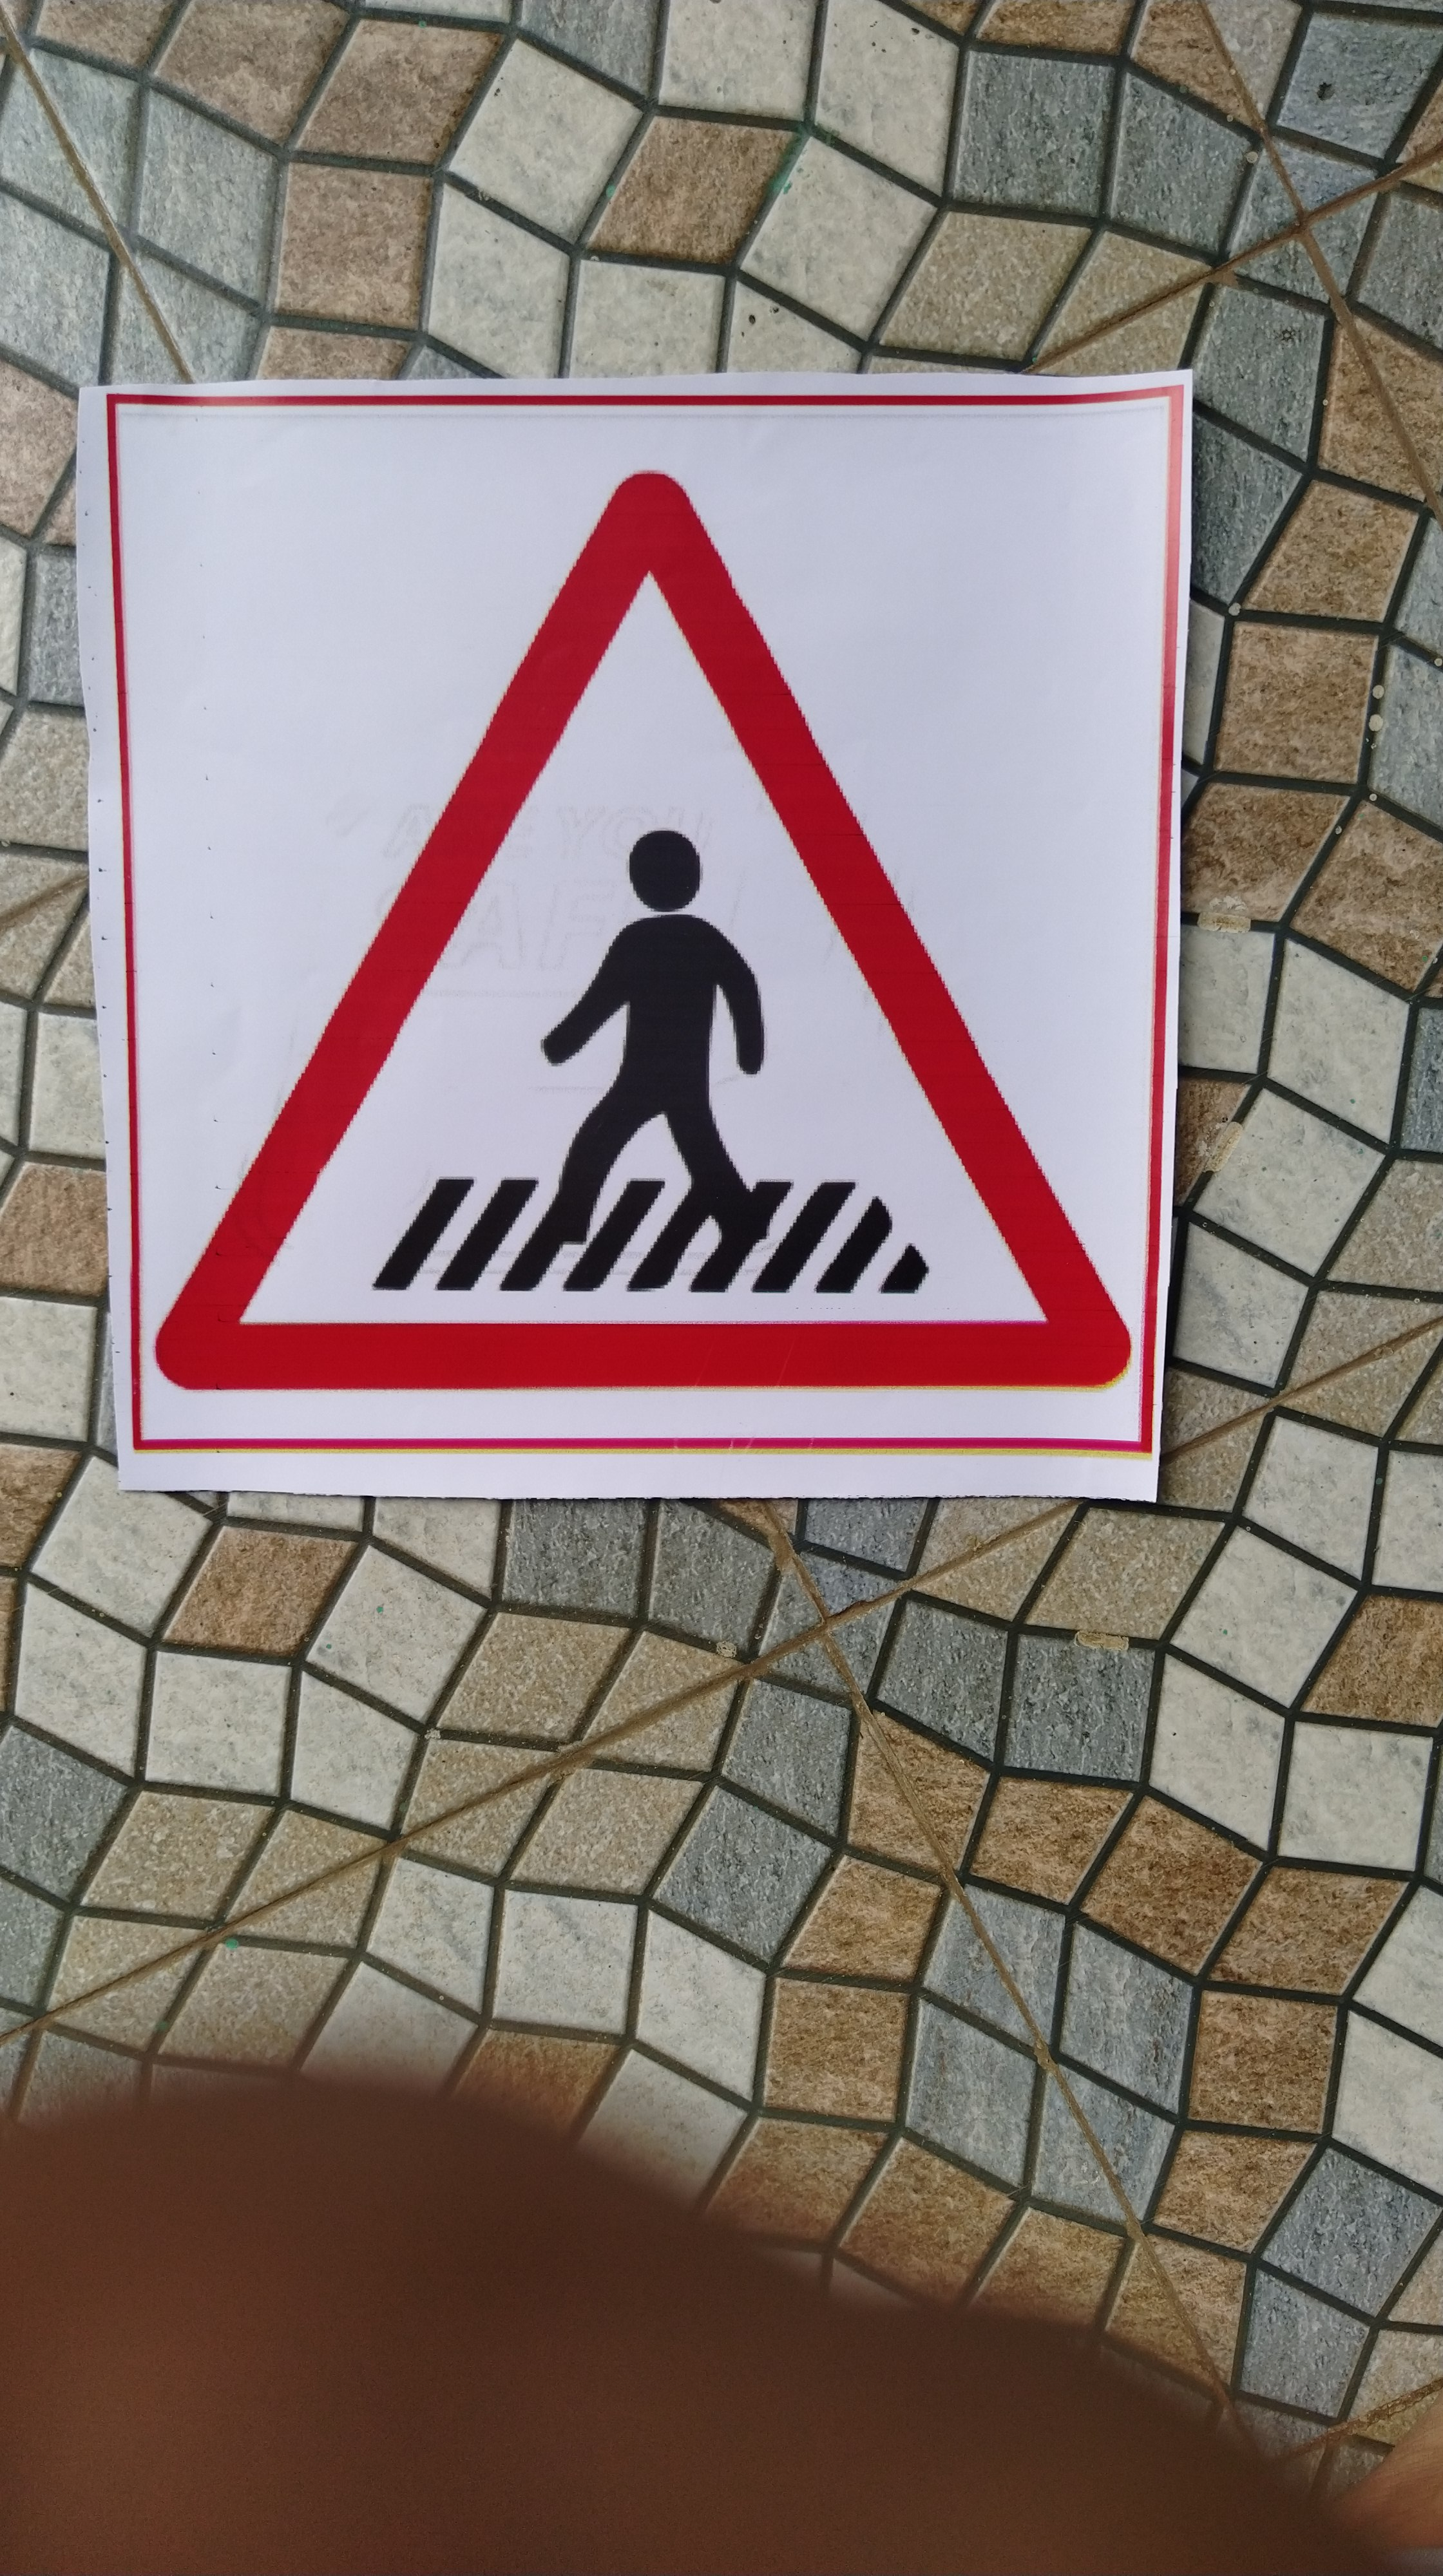pedestrain crossing: (129, 398, 1192, 1493), (154, 398, 1137, 1518)
